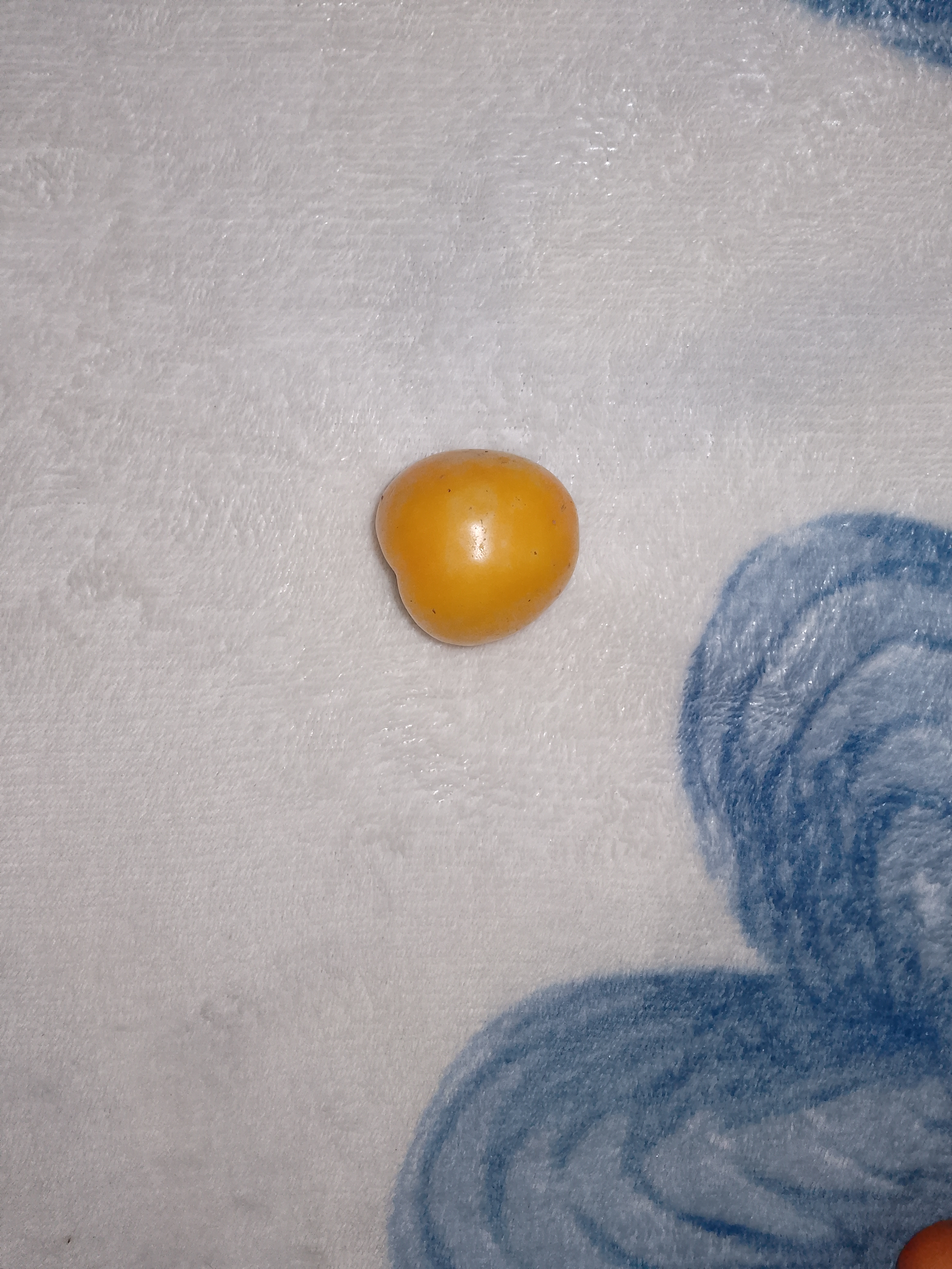Ripe: (350, 397, 626, 688)
